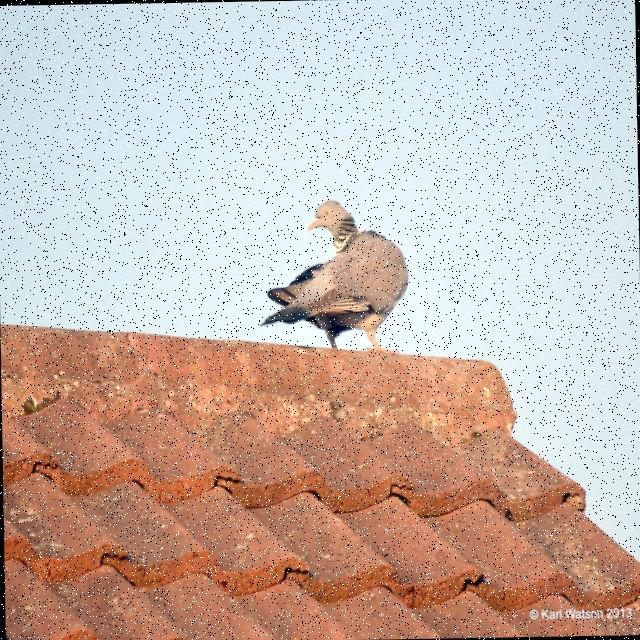bird: (258, 197, 412, 357)
